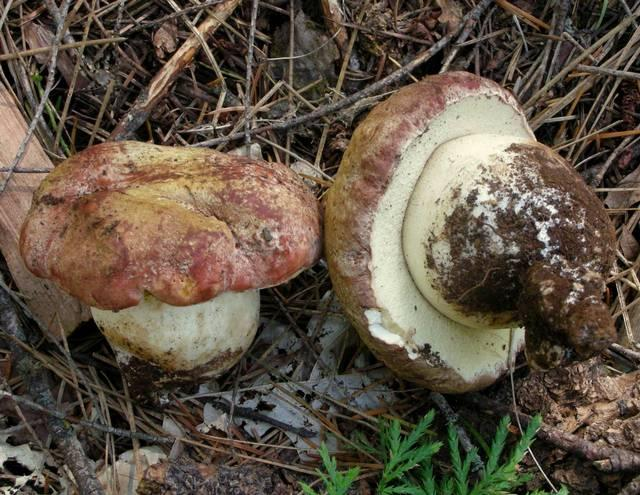edible_mushroom: (321, 69, 619, 394), (17, 138, 322, 397)
